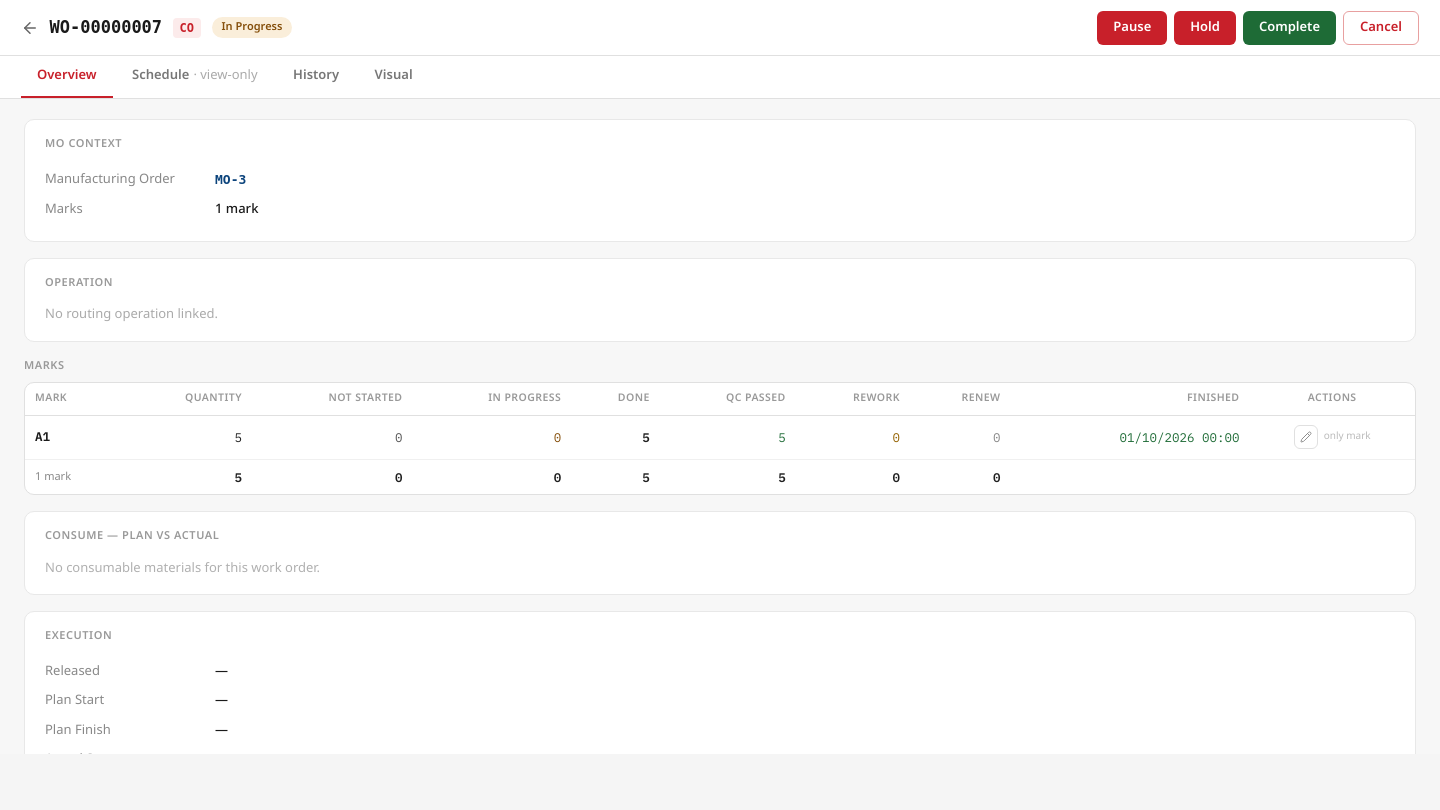
Test: WoDetail — mark edit panel wiring › ✎ reloads with throwOnError (so a failed reload reaches the table) and the panel shows the events loading state
Click the button titled "Edit qty". click: [1306, 437]
box: [1294, 425, 1318, 449]
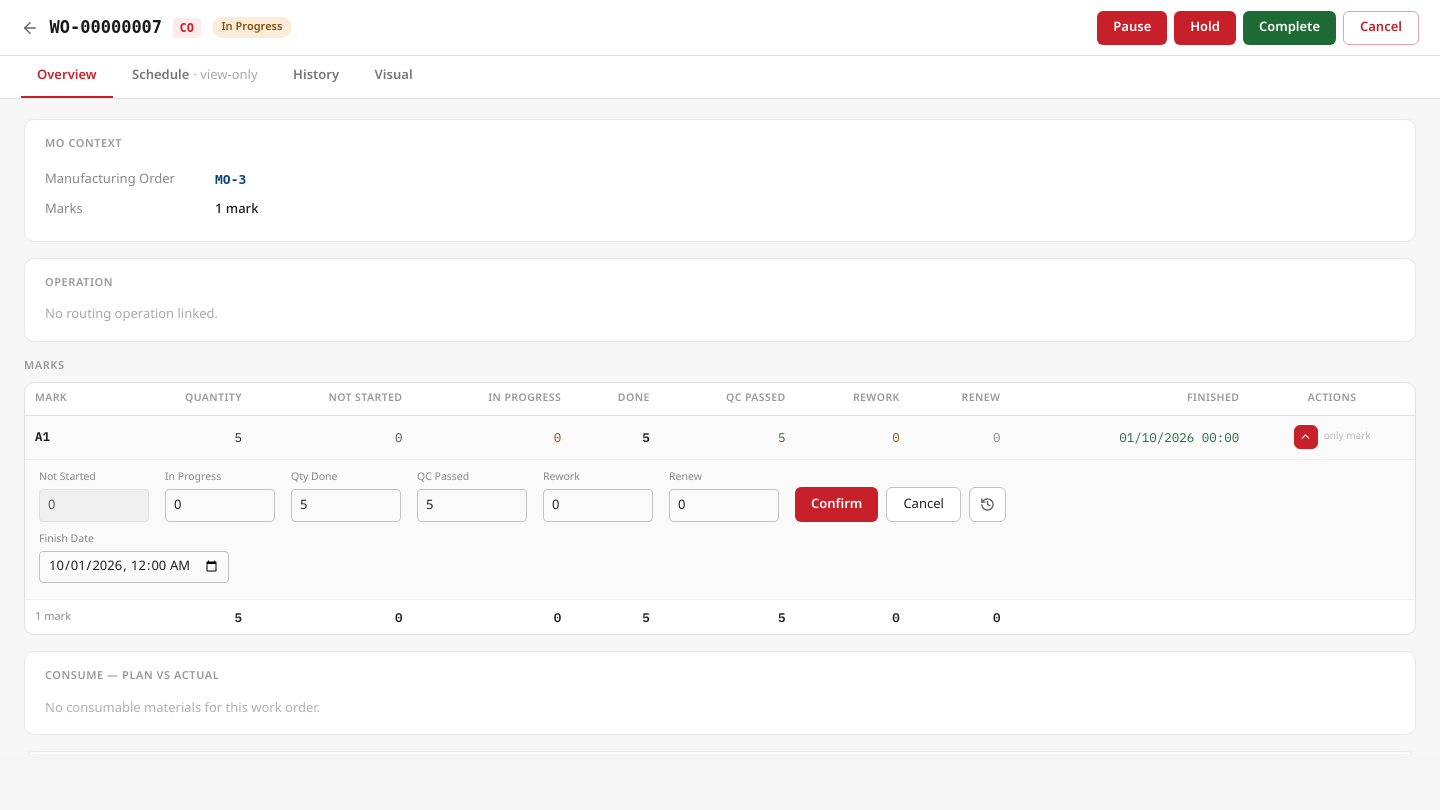
Note: History starts hidden — open it to see the loading state.
Click the button named "show history". click: [987, 505]
box: [969, 487, 1006, 522]
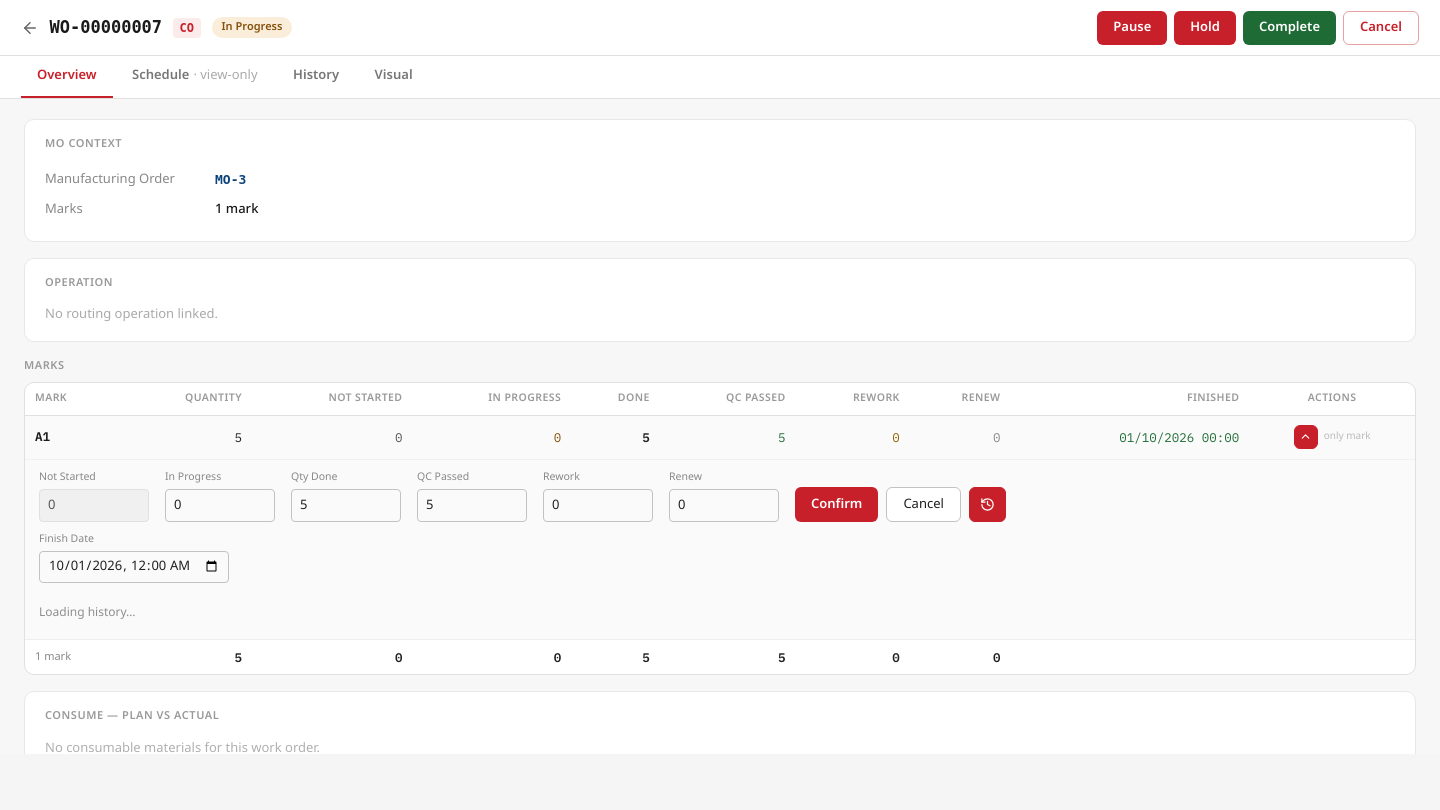
Check: the text "Loading history…" is shown, box [39, 602, 136, 620]
